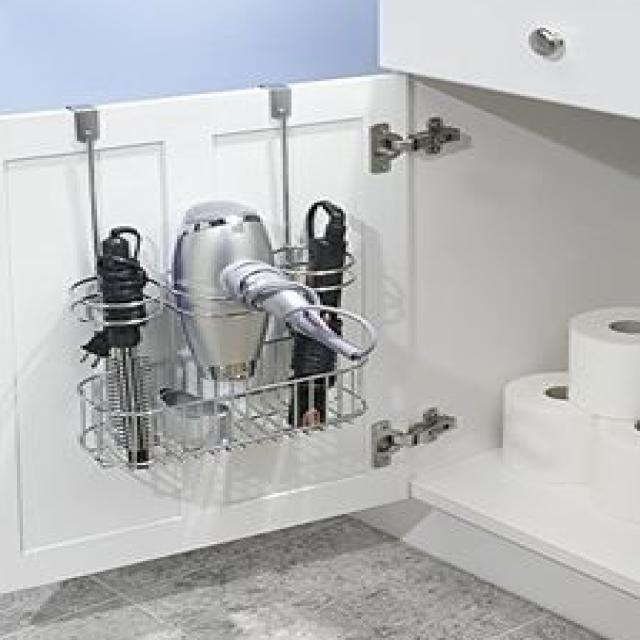dryer: (162, 186, 380, 387)
